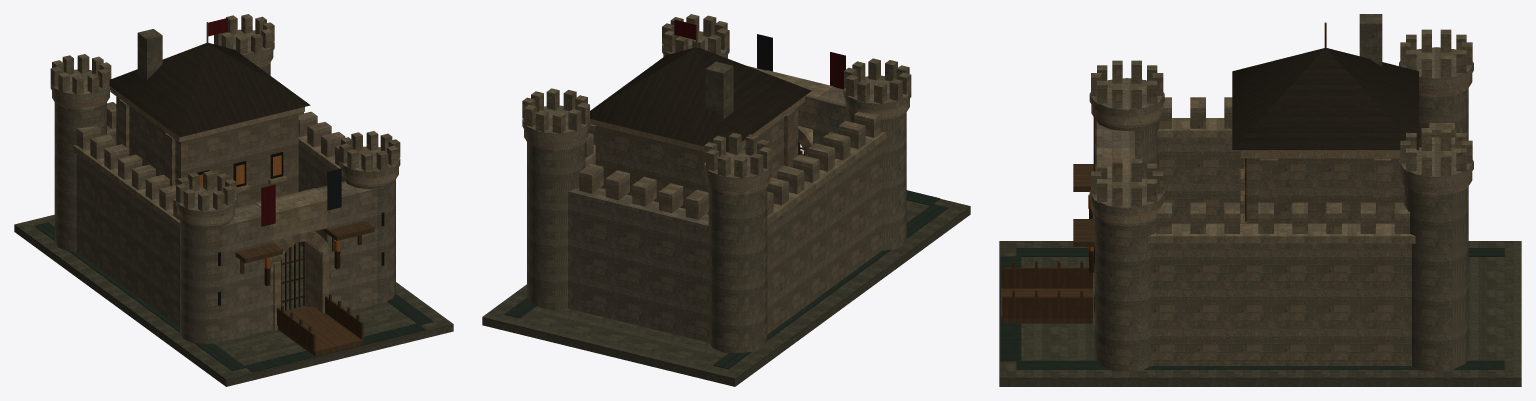
3 views of the same model, side by side, from view 1: azimuth 30°, elevation 25°; view 2: azimuth 150°, elevation 25°; view 3: azimuth 270°, elevation 25° (orthographic). The views are drawn at different scales.
Parts seen in each view (by area): view 1: Weathered limestone, Timber and slate; view 2: Weathered limestone, Timber and slate; view 3: Weathered limestone, Timber and slate.
Boxes of the visible parts, <box> form: Weathered limestone: <box>14,14,453,386</box>; Timber and slate: <box>34,18,433,372</box>; Weathered limestone: <box>482,14,970,386</box>; Timber and slate: <box>504,19,948,369</box>; Weathered limestone: <box>999,14,1521,386</box>; Timber and slate: <box>1000,22,1504,369</box>.
Bounding box in the file's own units: 11.4 × 11.5 × 18.4.
Materials: 2 (2 with a texture image).
